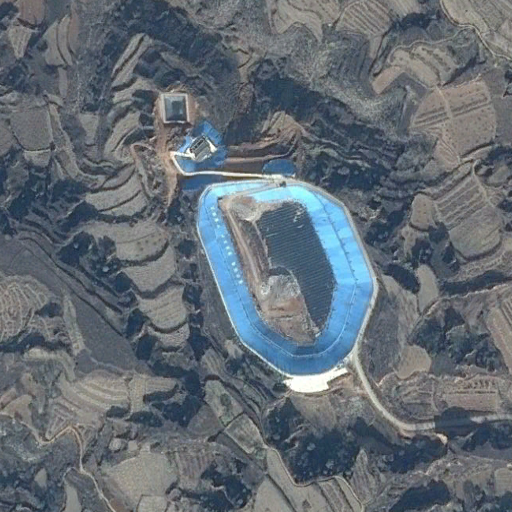lf: (195, 176, 379, 376)
